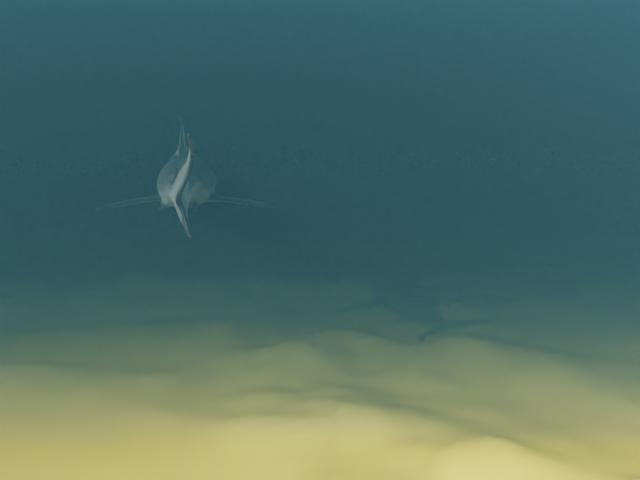Carribean Shark.001: (93, 117, 275, 237)
